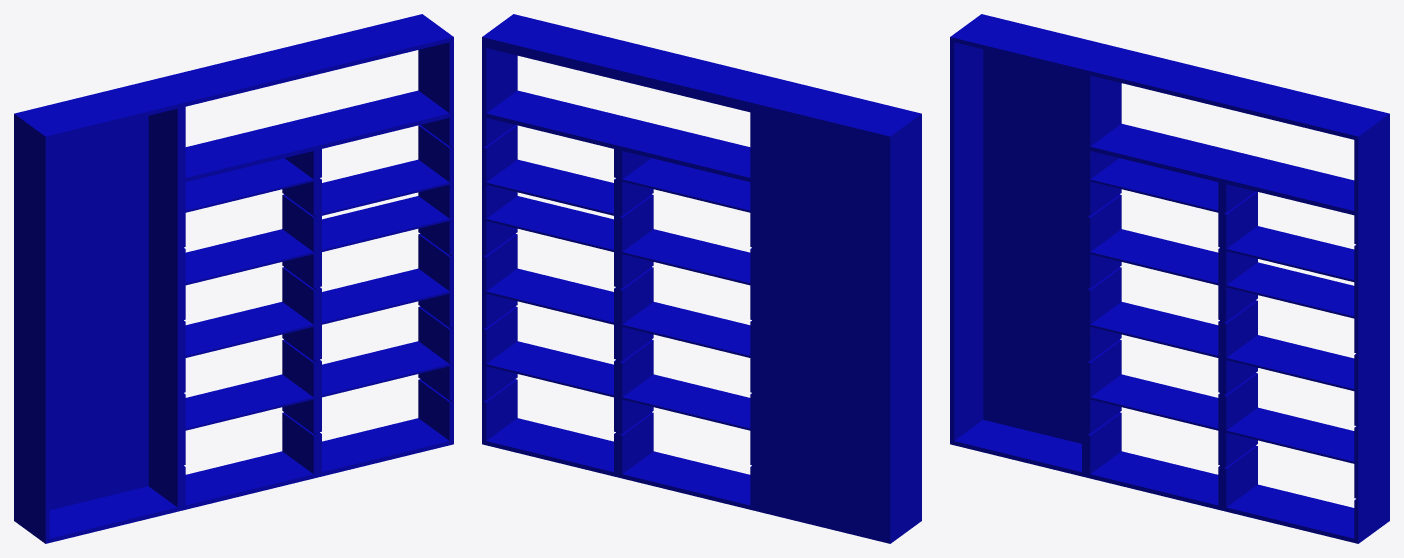
The picture shows the model from 3 angles, left to right: view 1: azimuth 30°, elevation 25°; view 2: azimuth 150°, elevation 25°; view 3: azimuth 330°, elevation 25°; orthographic projection.
Parts seen in each view (by area): view 1: 116527, 116526, 116790, 116798, 116800, 116792, 116794, 116796; view 2: 116527, 116526, 116790, 116798, 116800, 116792, 116794, 116796; view 3: 116526, 116527, 116790, 116796, 116798, 116800, 116792, 116794.
Boxes of the visible parts, x1=… form: 116527: x1=14, y1=80, x2=181, y2=543; 116526: x1=150, y1=14, x2=453, y2=510; 116790: x1=184, y1=158, x2=453, y2=285; 116798: x1=184, y1=374, x2=315, y2=430; 116800: x1=184, y1=302, x2=315, y2=358; 116792: x1=320, y1=196, x2=451, y2=252; 116794: x1=320, y1=268, x2=451, y2=325; 116796: x1=320, y1=341, x2=451, y2=397; 116527: x1=754, y1=80, x2=921, y2=543; 116526: x1=482, y1=14, x2=785, y2=510; 116790: x1=482, y1=158, x2=751, y2=285; 116798: x1=620, y1=374, x2=751, y2=430; 116800: x1=620, y1=302, x2=751, y2=358; 116792: x1=484, y1=196, x2=615, y2=252; 116794: x1=484, y1=268, x2=615, y2=325; 116796: x1=484, y1=341, x2=615, y2=397; 116526: x1=1086, y1=47, x2=1389, y2=543; 116527: x1=950, y1=14, x2=1117, y2=477; 116790: x1=1088, y1=158, x2=1356, y2=285; 116796: x1=1224, y1=407, x2=1356, y2=464; 116798: x1=1088, y1=374, x2=1219, y2=430; 116800: x1=1088, y1=302, x2=1219, y2=358; 116792: x1=1224, y1=262, x2=1356, y2=318; 116794: x1=1224, y1=335, x2=1356, y2=391.
Bounding box in the file's own units: 1.5 × 1.43 × 0.2.
